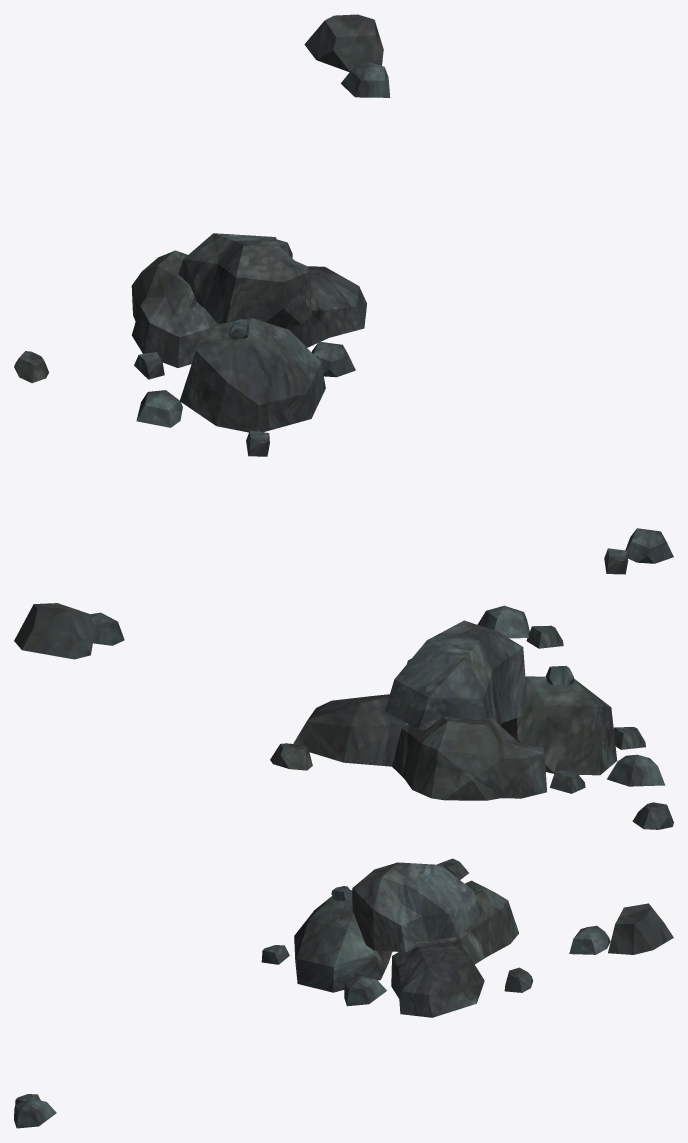
File: object_rubble33.fbx
3 renders of one model, top to bottom at view 1: azimuth 30°, elevation 25°; view 2: azimuth 150°, elevation 25°; view 3: azimuth 270°, elevation 25°, orthographic. The views are drawn at different scales.
Visible parts, largest first — view 1: obj0.106; view 2: obj0.106; view 3: obj0.106.
Part boxes in pixels (bbox=[...]): obj0.106: bbox=[14, 14, 673, 574]; obj0.106: bbox=[14, 603, 673, 829]; obj0.106: bbox=[14, 858, 673, 1128].
Size of the model in its own units: 4.94 by 2.72 by 6.89.
